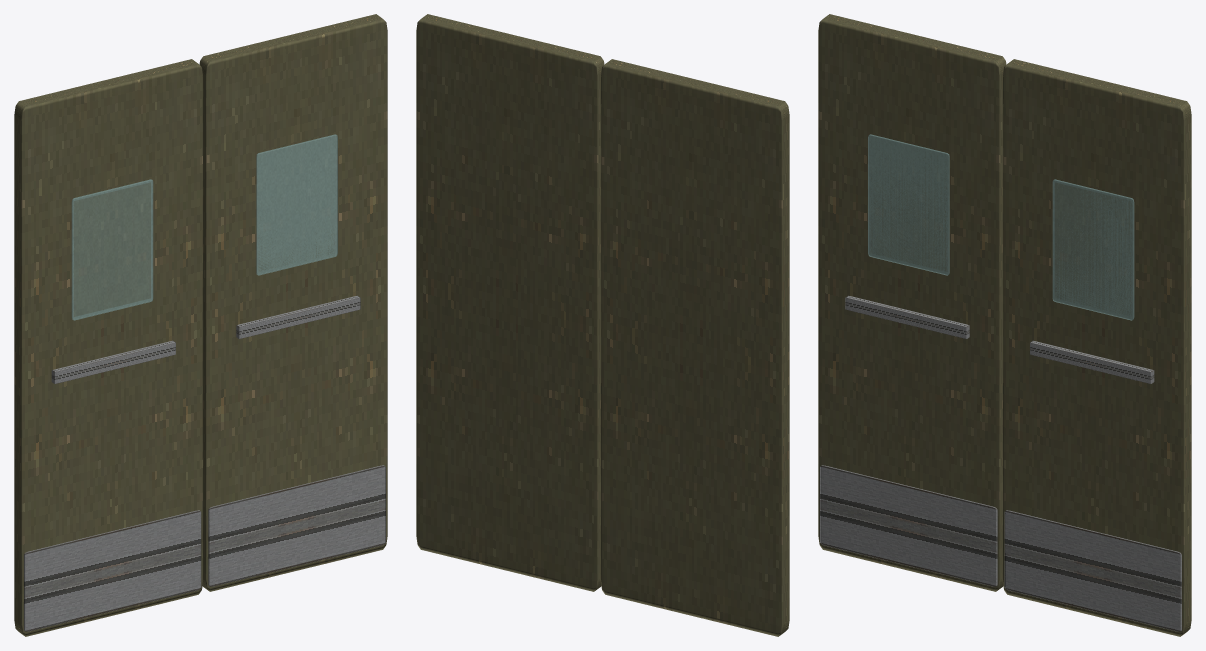
Rendered from double-door.glb.
The picture shows the model from 3 angles, left to right: view 1: azimuth 30°, elevation 25°; view 2: azimuth 150°, elevation 25°; view 3: azimuth 330°, elevation 25°; orthographic projection.
Visible parts, largest first — view 1: leaf (×2), kick (×2), window (×2), push (×2); view 2: leaf (×2); view 3: leaf (×2), kick (×2), window (×2), push (×2).
Part boxes in pixels (x1,y1,x2,y2): leaf (×2): (14,14,387,636); kick (×2): (24,465,385,631); window (×2): (71,134,337,320); push (×2): (51,295,360,383); leaf (×2): (416,14,789,636); leaf (×2): (818,14,1191,636); kick (×2): (820,465,1181,631); window (×2): (868,134,1134,320); push (×2): (845,295,1154,383).
Size of the model in its own units: 1.59 by 2.2 by 0.0765.
3 materials, 3 textured.
